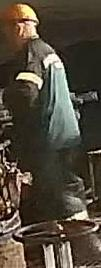helmet: (1, 0, 42, 25)
vest: (8, 42, 85, 155)
